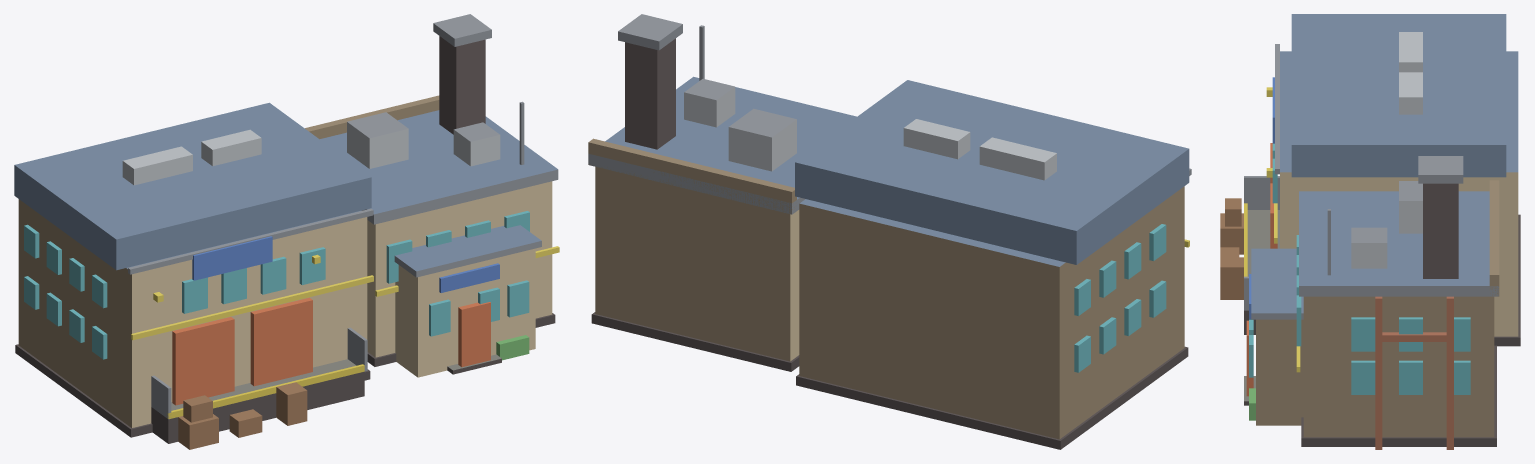
The model's file is IndustryPark.fbx.
3 views of the same model, side by side, from view 1: azimuth 30°, elevation 25°; view 2: azimuth 150°, elevation 25°; view 3: azimuth 270°, elevation 25° (orthographic). The views are drawn at different scales.
Parts seen in each view (by area): view 1: IndustryPark; view 2: IndustryPark; view 3: IndustryPark.
Boxes of the visible parts, box(x1,y1,x2,y2) form: IndustryPark: box(14, 14, 559, 449); IndustryPark: box(588, 14, 1191, 449); IndustryPark: box(1220, 14, 1520, 449).
Size of the model in its own units: 2290 by 1240 by 1260.
